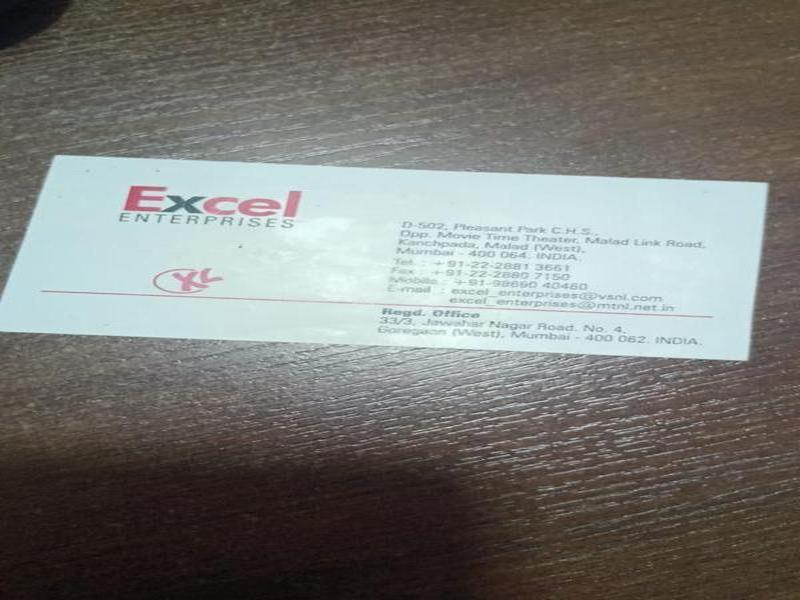card: (1, 144, 771, 375)
